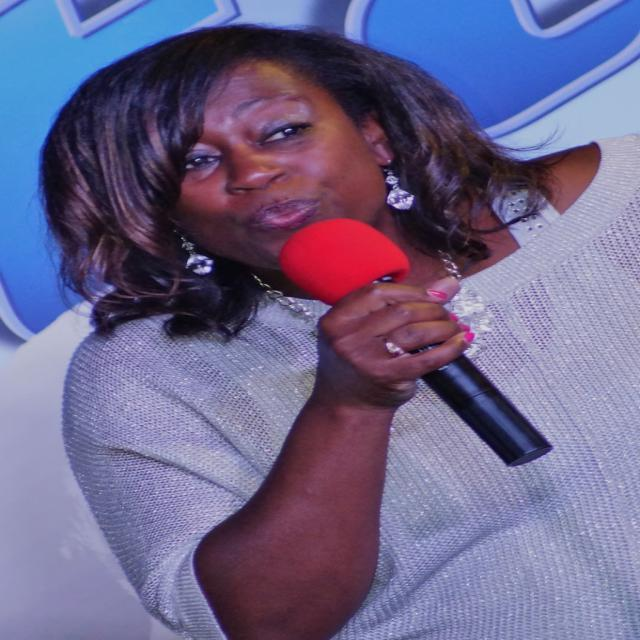closed-mouth: (246, 200, 325, 230)
